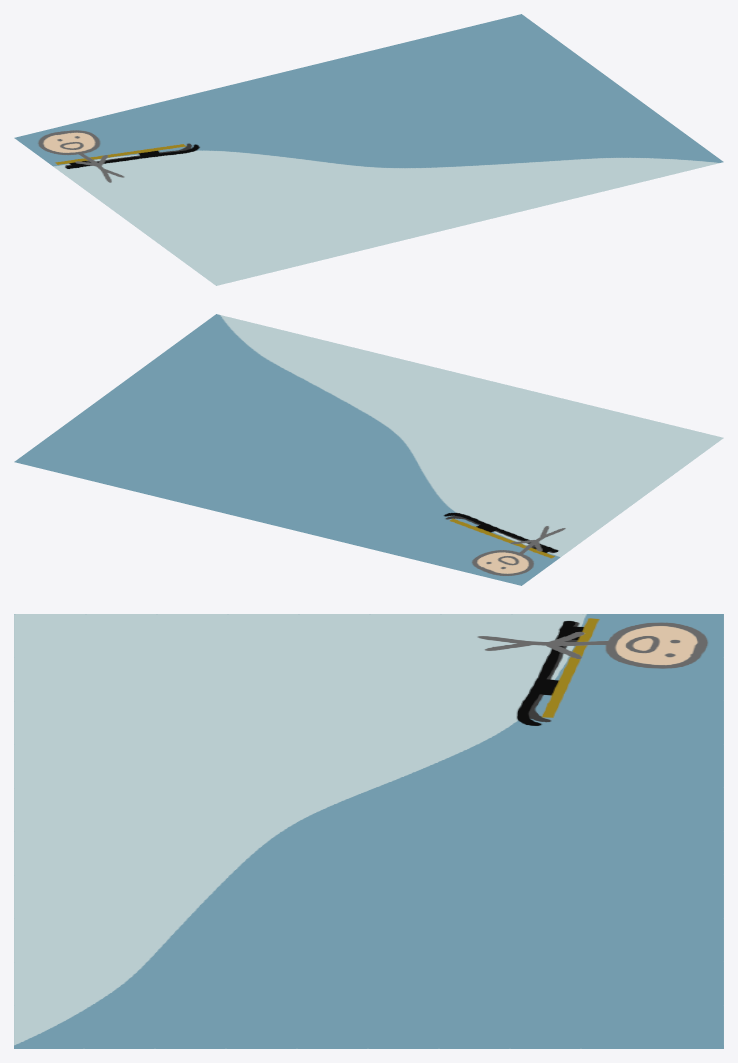
The model's file is WinterAnim4.fbx.
3 renders of one model, top to bottom at view 1: azimuth 30°, elevation 25°; view 2: azimuth 150°, elevation 25°; view 3: azimuth 270°, elevation 25°, orthographic. The views are drawn at different scales.
Visible parts, largest first — view 1: pPlane1; view 2: pPlane1; view 3: pPlane1.
Boxes of the visible parts, box(x1,y1,x2,y2) form: pPlane1: box(14, 14, 723, 285); pPlane1: box(14, 314, 723, 585); pPlane1: box(14, 614, 723, 1048).
Bounding box in the file's own units: 7.78 × 5.08e-16 × 5.37.
1 material, 1 textured.
